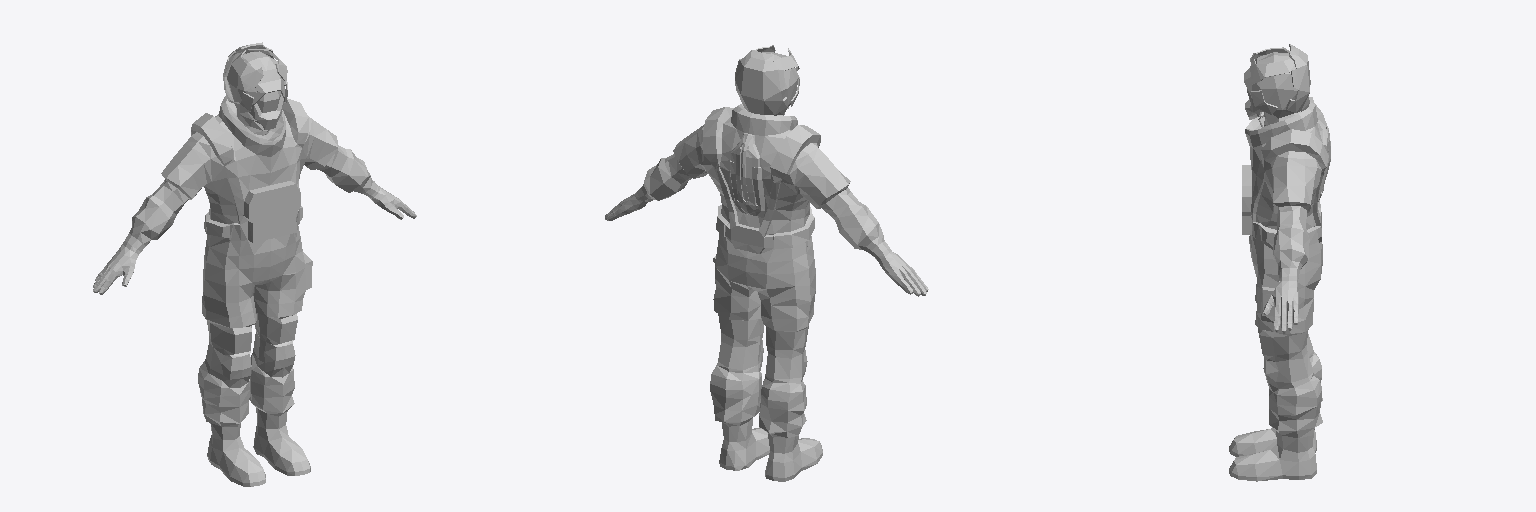
Rendered from astronautsuit.obj.
The picture shows the model from 3 angles: view 1: azimuth 30°, elevation 25°; view 2: azimuth 150°, elevation 25°; view 3: azimuth 270°, elevation 25°; orthographic projection.
Parts seen in each view (by area): view 1: Object001; view 2: Object001; view 3: Object001.
Part boxes in pixels (left/top/right/bottom): Object001: left=93, top=42, right=416, bottom=486; Object001: left=605, top=45, right=928, bottom=481; Object001: left=1229, top=44, right=1329, bottom=481.
Size of the model in its own units: 85.22 by 105 by 23.59.